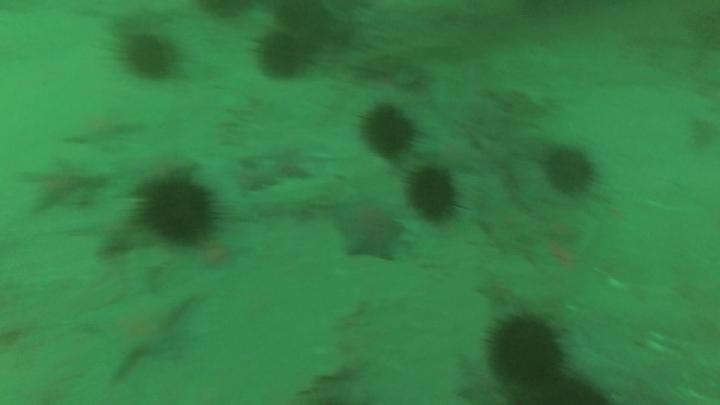echinus: (490, 321, 560, 385), (143, 187, 216, 247), (407, 169, 455, 219), (365, 109, 410, 159), (257, 32, 303, 79), (123, 41, 175, 80), (545, 146, 591, 190)
starfish: (90, 281, 193, 380), (333, 201, 406, 259), (28, 163, 102, 215), (74, 115, 142, 153), (197, 239, 242, 273)
